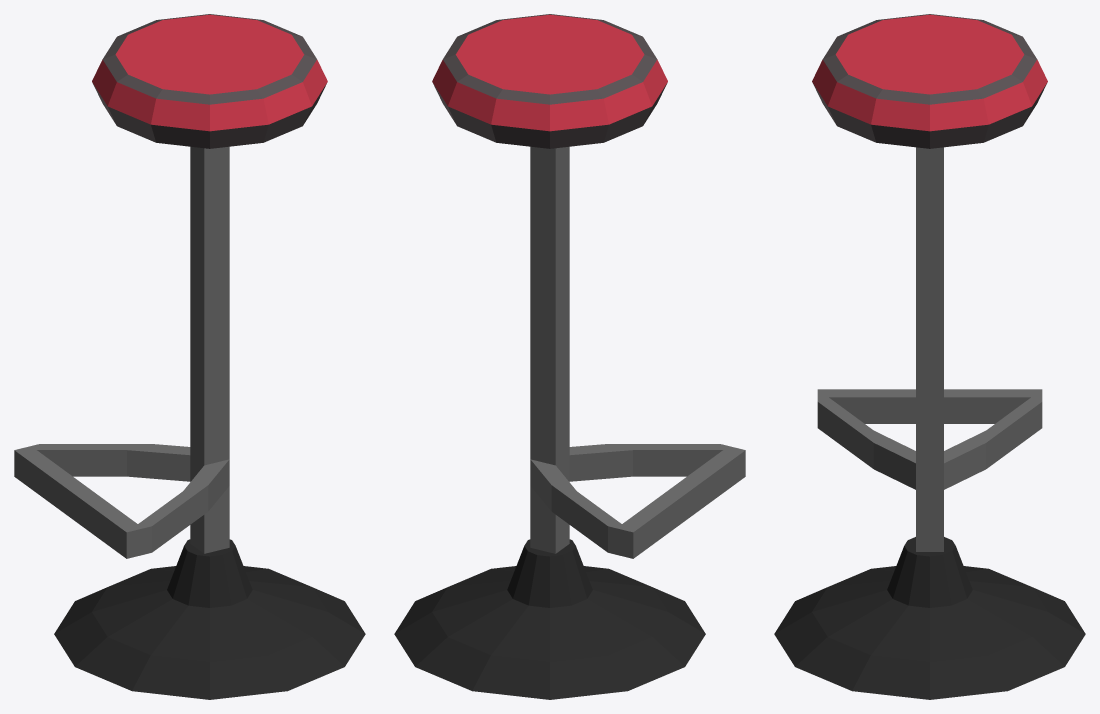
File: Bar Stool.fbx
3 renders of one model, left to right at view 1: azimuth 30°, elevation 25°; view 2: azimuth 150°, elevation 25°; view 3: azimuth 270°, elevation 25°, orthographic.
Parts seen in each view (by area): view 1: Cube, Bar Stool; view 2: Cube, Bar Stool; view 3: Cube, Bar Stool.
Boxes of the visible parts, bbox=[...] form: Cube: bbox=[14, 14, 327, 558]; Bar Stool: bbox=[54, 539, 365, 699]; Cube: bbox=[432, 14, 745, 558]; Bar Stool: bbox=[394, 539, 705, 699]; Cube: bbox=[812, 14, 1047, 551]; Bar Stool: bbox=[774, 537, 1085, 699].
Size of the model in its own units: 649 by 1311 by 639.
